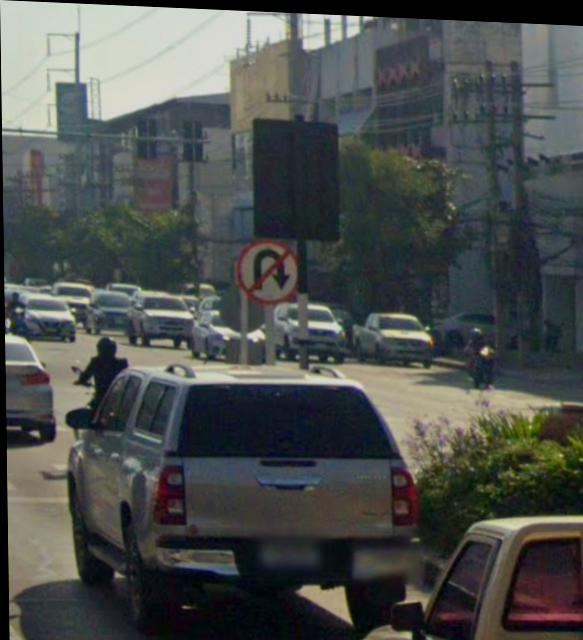not_u_turn_right: (234, 235, 298, 305)
